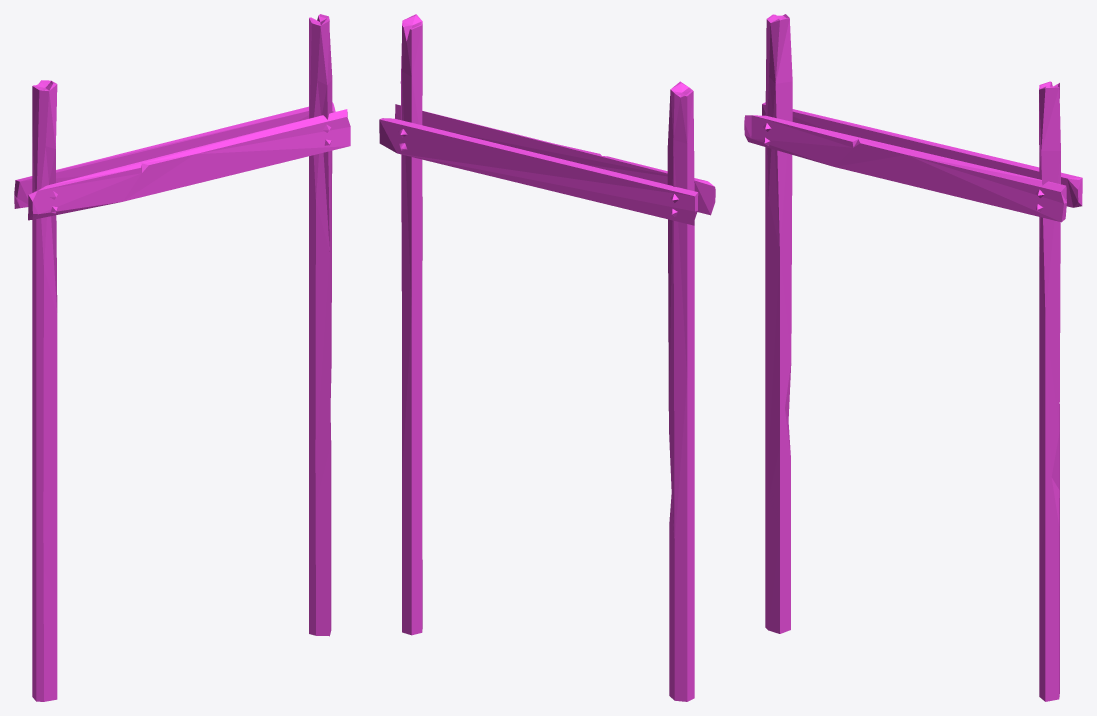
The model's file is SM_Pier_Pillars_Fantasy.fbx.
The picture shows the model from 3 angles, left to right: view 1: azimuth 30°, elevation 25°; view 2: azimuth 150°, elevation 25°; view 3: azimuth 330°, elevation 25°; orthographic projection.
Parts seen in each view (by area): view 1: SM_Pier_Pillars_Fantasy; view 2: SM_Pier_Pillars_Fantasy; view 3: SM_Pier_Pillars_Fantasy.
Part boxes in pixels (x1,y1,x2,y2): SM_Pier_Pillars_Fantasy: (14,14,350,701); SM_Pier_Pillars_Fantasy: (379,14,715,701); SM_Pier_Pillars_Fantasy: (744,14,1082,701).
Bounding box in the file's own units: 3.8 × 6.93 × 0.4926.
